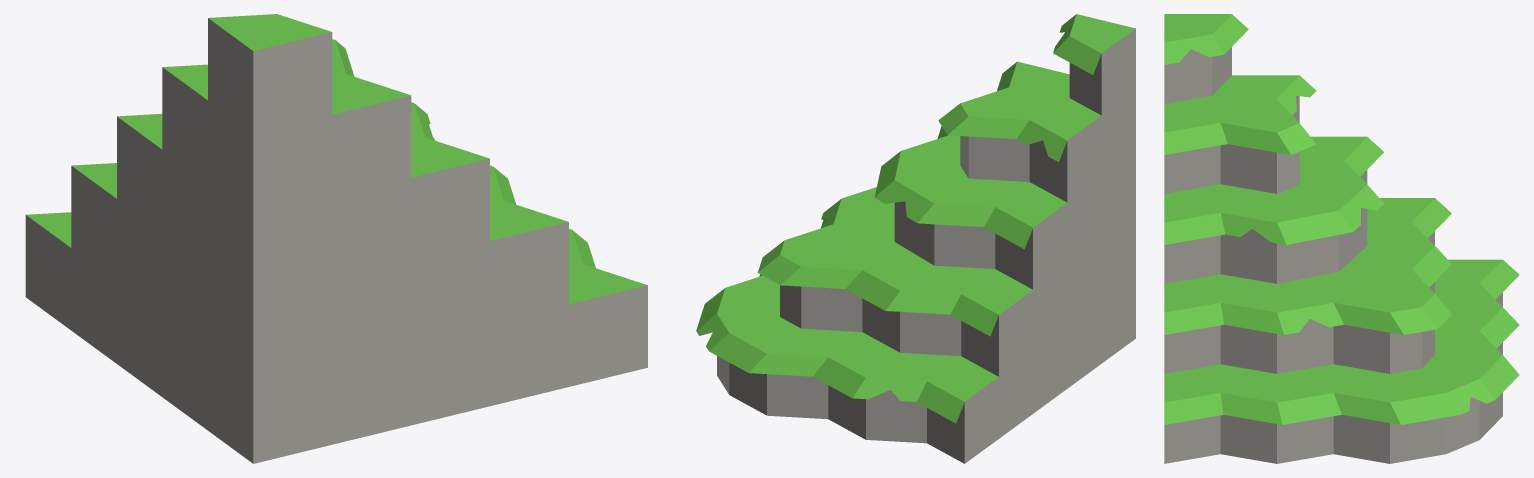
Rendered from cliff_stepsCorner_stone.glb.
3 views of the same model, side by side, from view 1: azimuth 30°, elevation 25°; view 2: azimuth 150°, elevation 25°; view 3: azimuth 270°, elevation 25° (orthographic). The views are drawn at different scales.
Parts seen in each view (by area): view 1: cliff_stepsCorner_stone; view 2: cliff_stepsCorner_stone; view 3: cliff_stepsCorner_stone.
Part boxes in pixels (bbox=[...]): cliff_stepsCorner_stone: bbox=[25, 14, 647, 463]; cliff_stepsCorner_stone: bbox=[696, 14, 1135, 463]; cliff_stepsCorner_stone: bbox=[1164, 14, 1519, 463].
Size of the model in its own units: 1.05 by 1 by 1.05.
